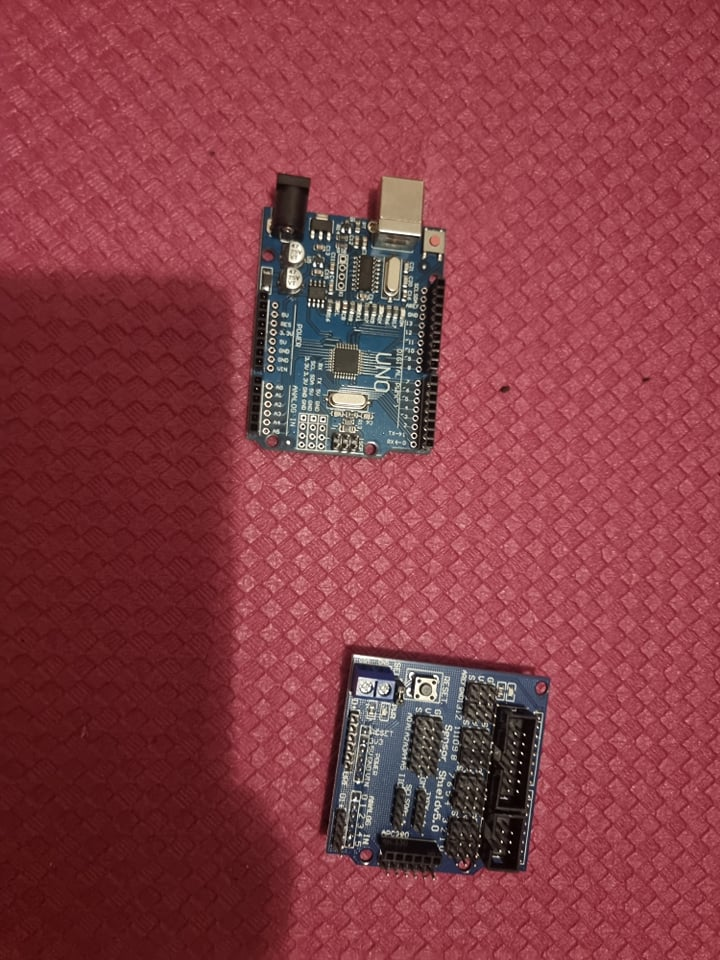5V EXPANSION: (311, 649, 550, 886)
UNO R3: (247, 168, 449, 459)
